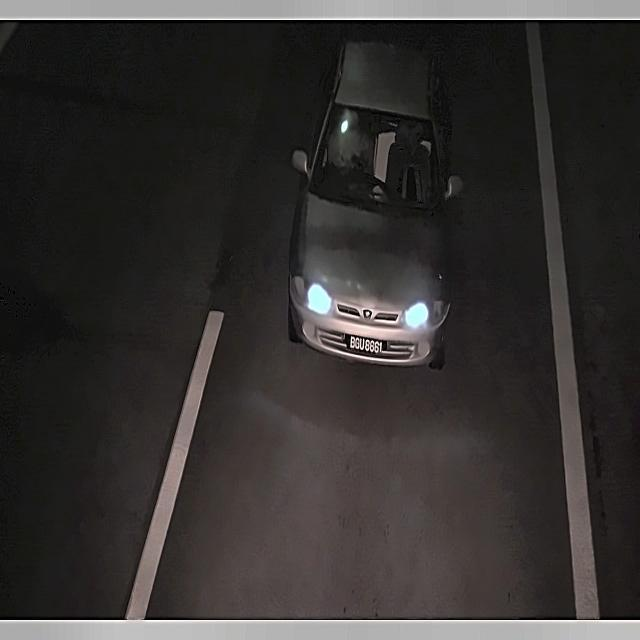car: (345, 330, 391, 365)
